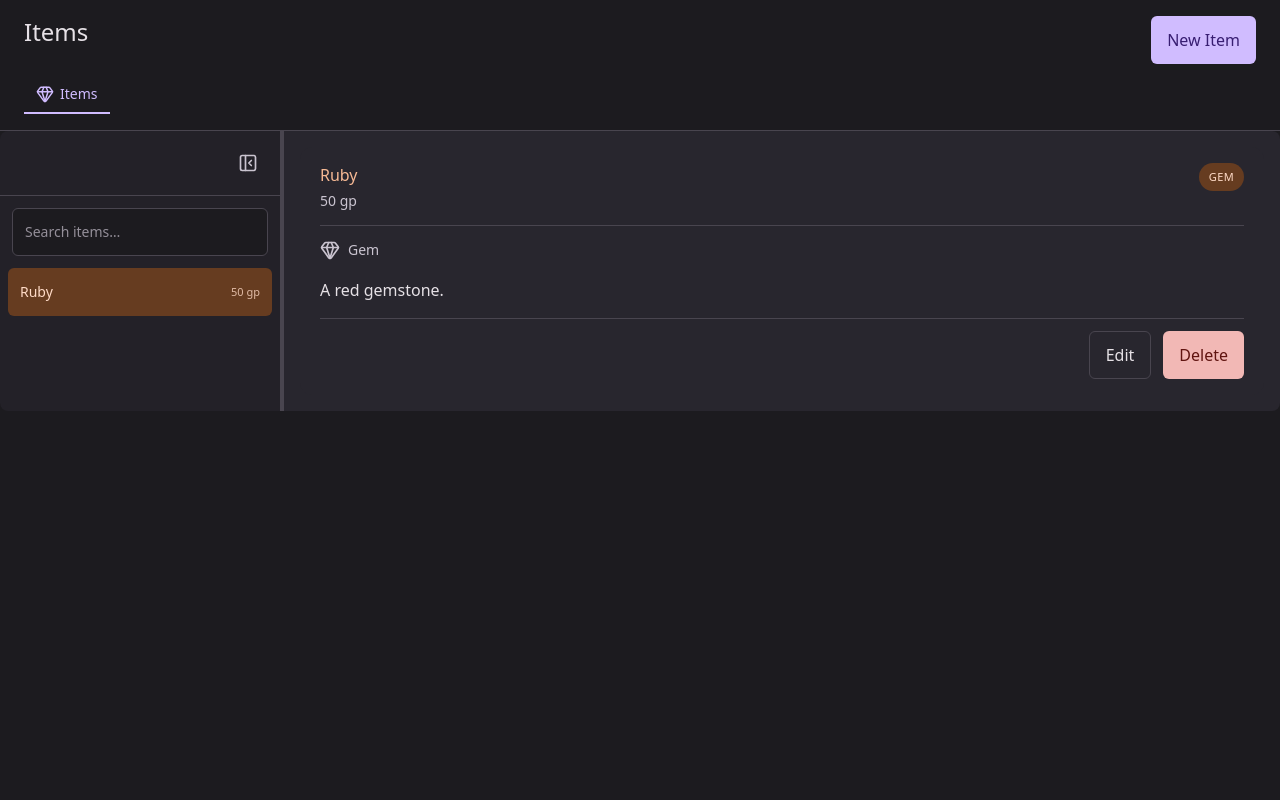
Test case: ItemBrowserPage › renders a populated catalog and opens the selected item editor
The image size is (1280, 800).
Check: the button "Ruby 50 gp" is shown, box [8, 268, 272, 316]
Click the button "Edit" at (1120,355), box [1089, 331, 1151, 379]
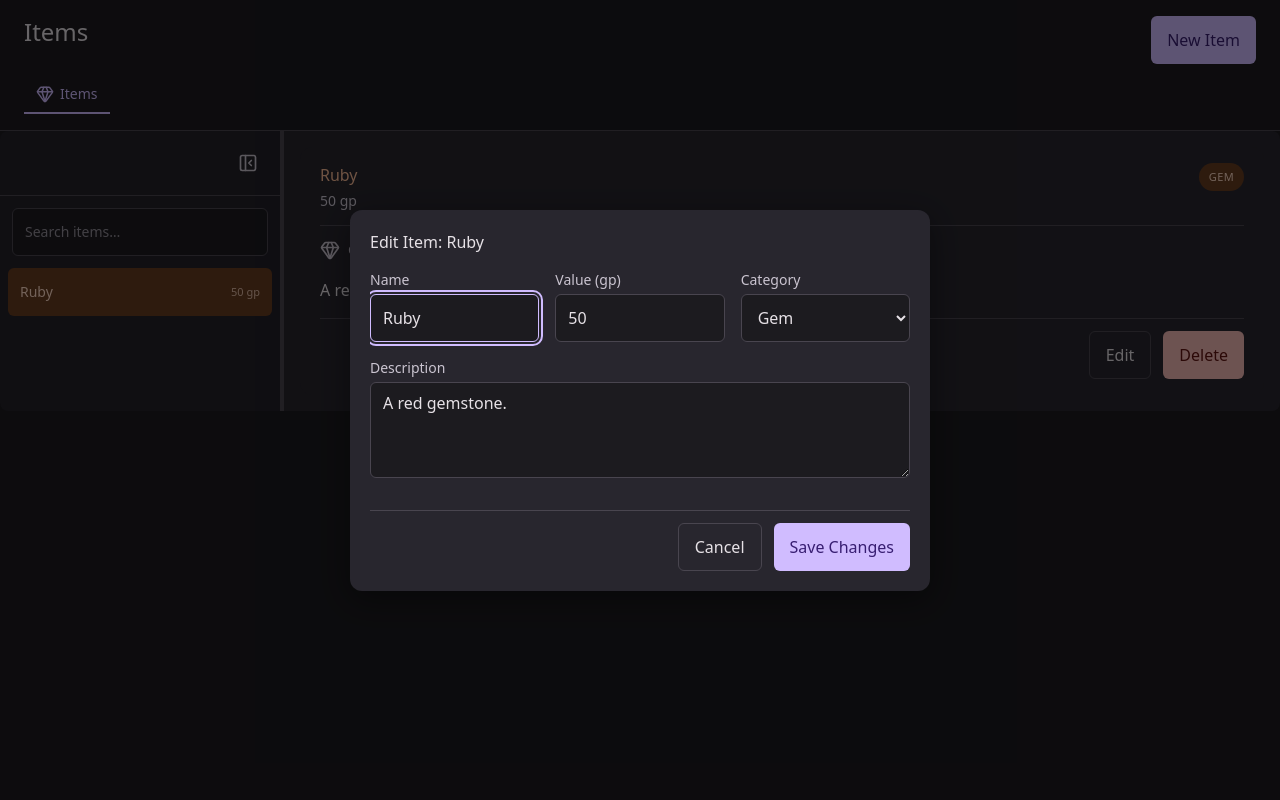
Check: the dialog "Edit Item: Ruby" is shown, box [350, 210, 930, 590]
